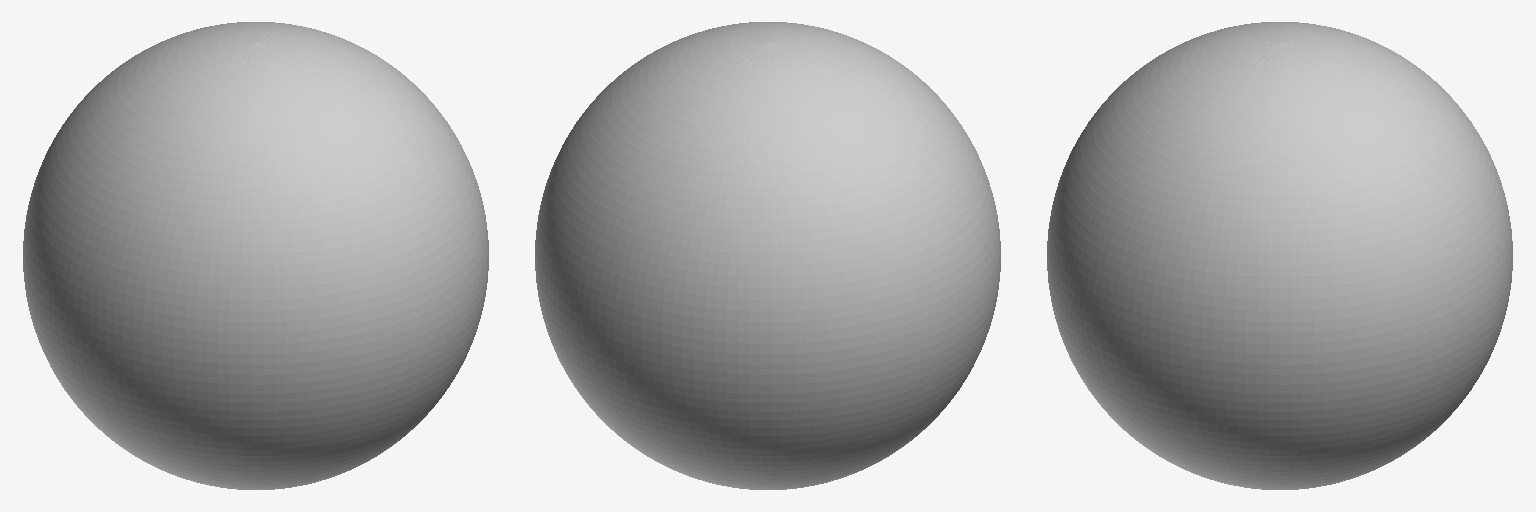
The model's file is rustedSphere0.obj.
The picture shows the model from 3 angles: view 1: azimuth 30°, elevation 25°; view 2: azimuth 150°, elevation 25°; view 3: azimuth 270°, elevation 25°; orthographic projection.
Visible parts, largest first — view 1: Sphere; view 2: Sphere; view 3: Sphere.
Part boxes in pixels (x1,y1,x2,y2): Sphere: (23, 22, 488, 489); Sphere: (535, 22, 1000, 489); Sphere: (1047, 22, 1512, 489).
Bounding box in the file's own units: 1.97 × 2 × 1.97.